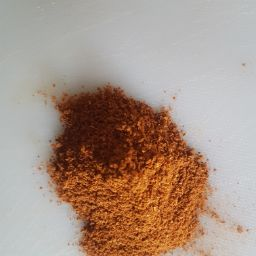Cinemon powder: (18, 78, 256, 256)
